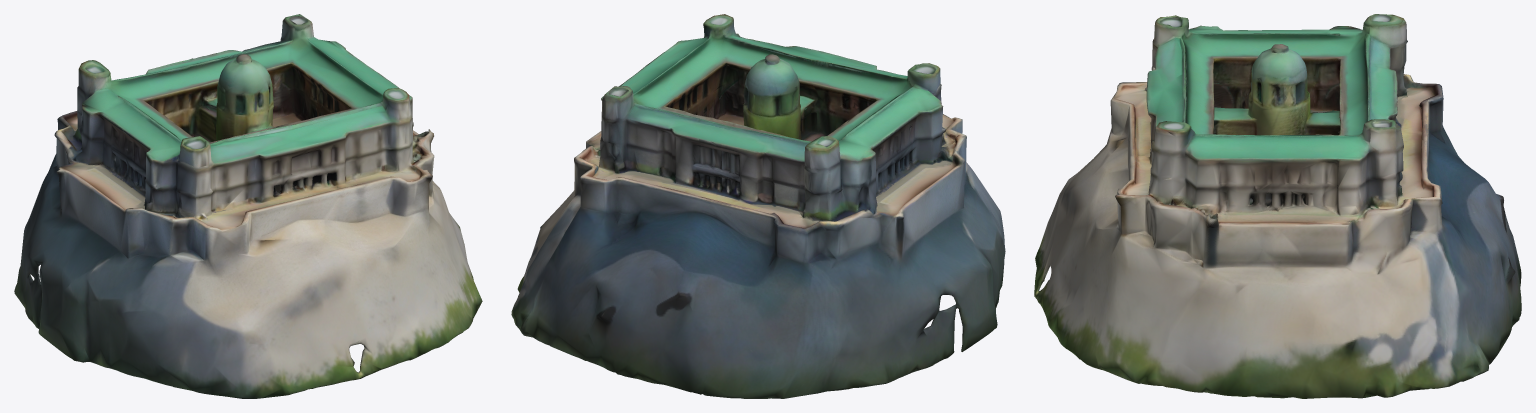
File: landmark-castillo.glb
The picture shows the model from 3 angles, left to right: view 1: azimuth 30°, elevation 25°; view 2: azimuth 150°, elevation 25°; view 3: azimuth 270°, elevation 25°; orthographic projection. The views are drawn at different scales.
Size of the model in its own units: 2 by 1.14 by 2.
Materials: 1 (1 with a texture image).
